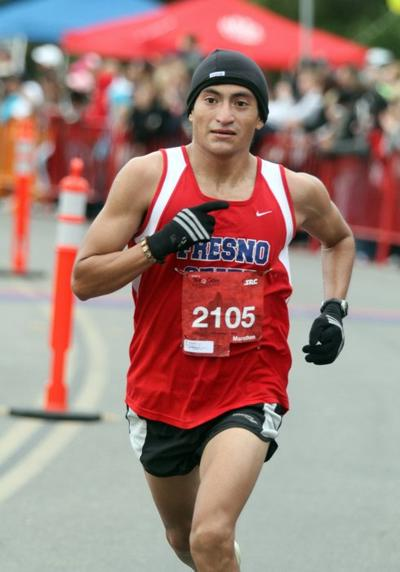person: (69, 48, 357, 572)
